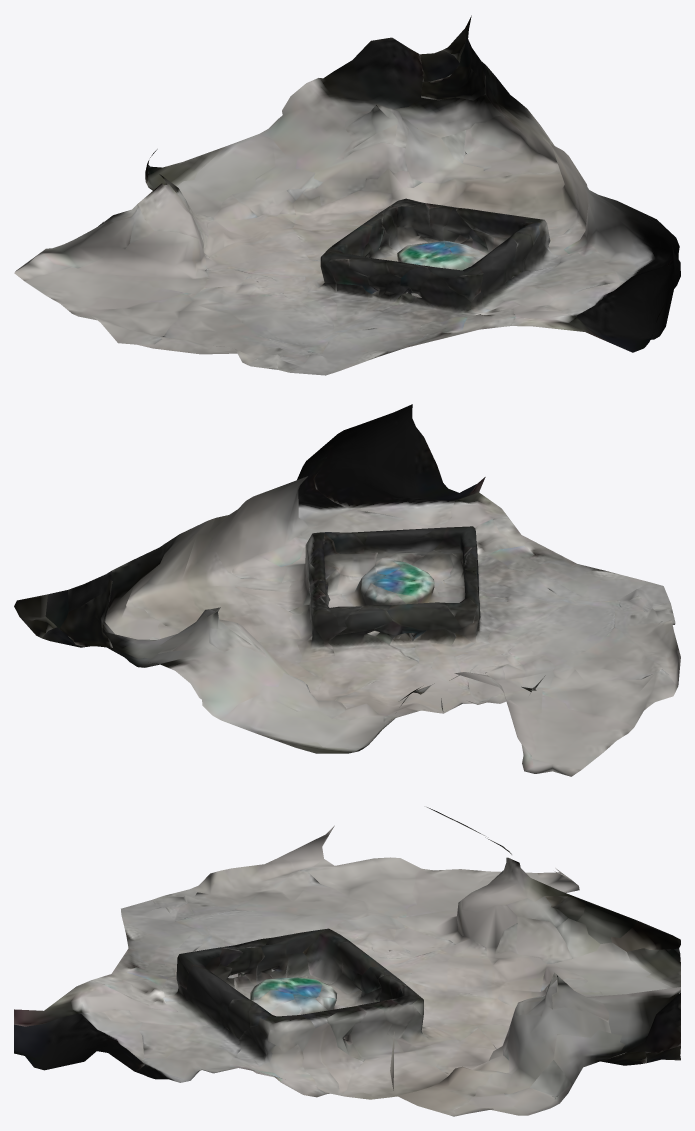
File: hall.glb
The picture shows the model from 3 angles, top to bottom: view 1: azimuth 30°, elevation 25°; view 2: azimuth 150°, elevation 25°; view 3: azimuth 270°, elevation 25°; orthographic projection. The views are drawn at different scales.
Size of the model in its own units: 1.89 by 0.3423 by 1.97.
1 material, 1 textured.
